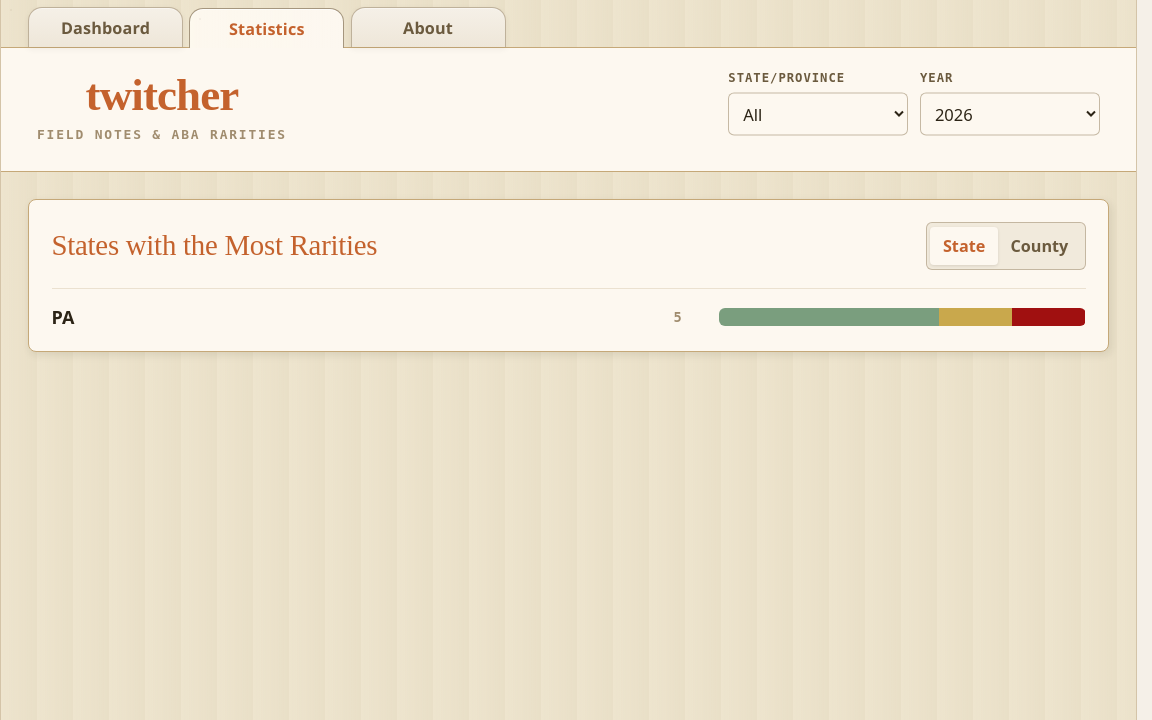
Test case: StatisticsPage › expands a ranking row to show referenced birds
The image size is (1152, 720).
Click the button "PA" at (63, 317), box top-left (52, 307), bottom-right (664, 328)
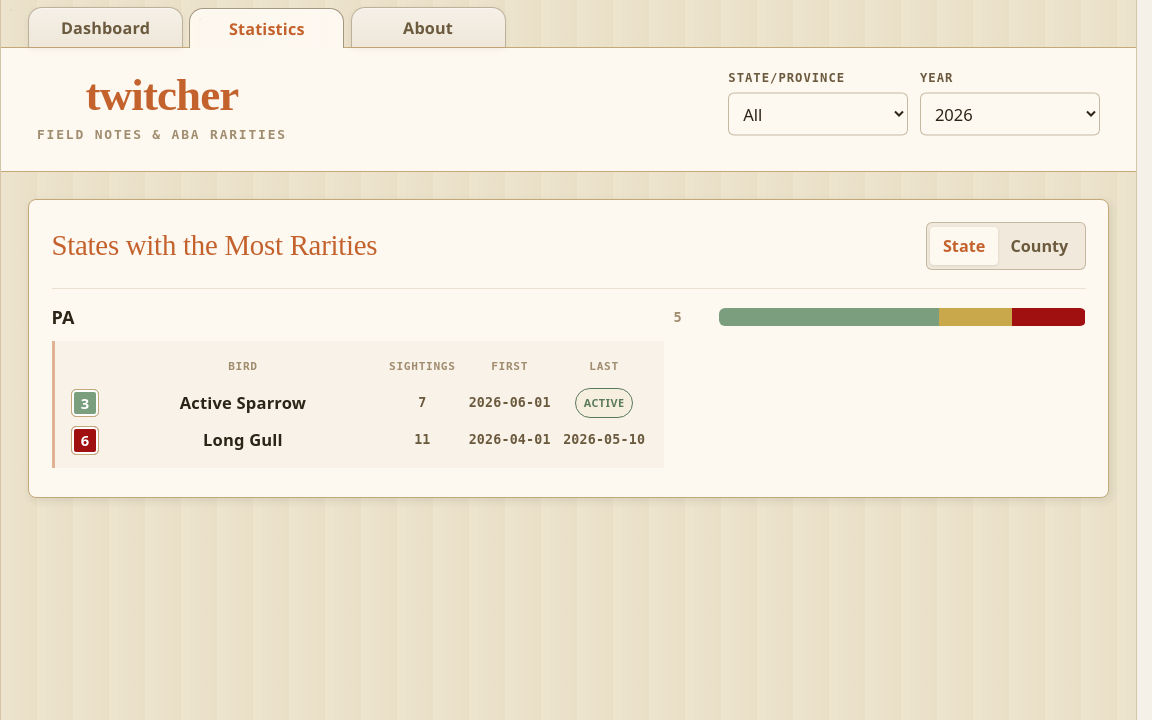
expect the text "Active Sparrow" is shown: met, box top-left (180, 391), bottom-right (306, 414)
expect the text "Long Gull" is shown: met, box top-left (203, 428), bottom-right (283, 451)
expect the text "7" is shown: met, box top-left (418, 395), bottom-right (426, 410)
